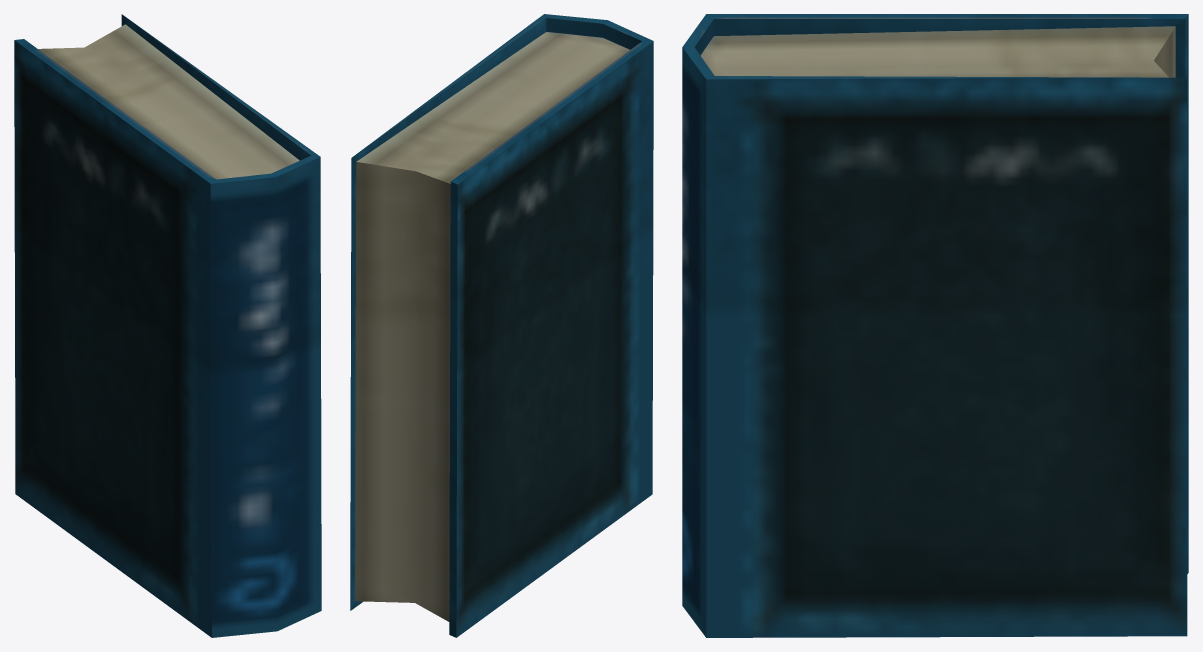
The model's file is M_Home_Garden_Book_02.fbx.
3 renders of one model, left to right at view 1: azimuth 30°, elevation 25°; view 2: azimuth 150°, elevation 25°; view 3: azimuth 270°, elevation 25°, orthographic. The views are drawn at different scales.
Visible parts, largest first — view 1: M_Home_Garden_Book_02; view 2: M_Home_Garden_Book_02; view 3: M_Home_Garden_Book_02.
Boxes of the visible parts, left/top/right/bottom form: M_Home_Garden_Book_02: left=14, top=14, right=321, bottom=637; M_Home_Garden_Book_02: left=350, top=14, right=653, bottom=637; M_Home_Garden_Book_02: left=682, top=14, right=1188, bottom=637.
Bounding box in the file's own units: 15.49 × 60.64 × 49.84.
